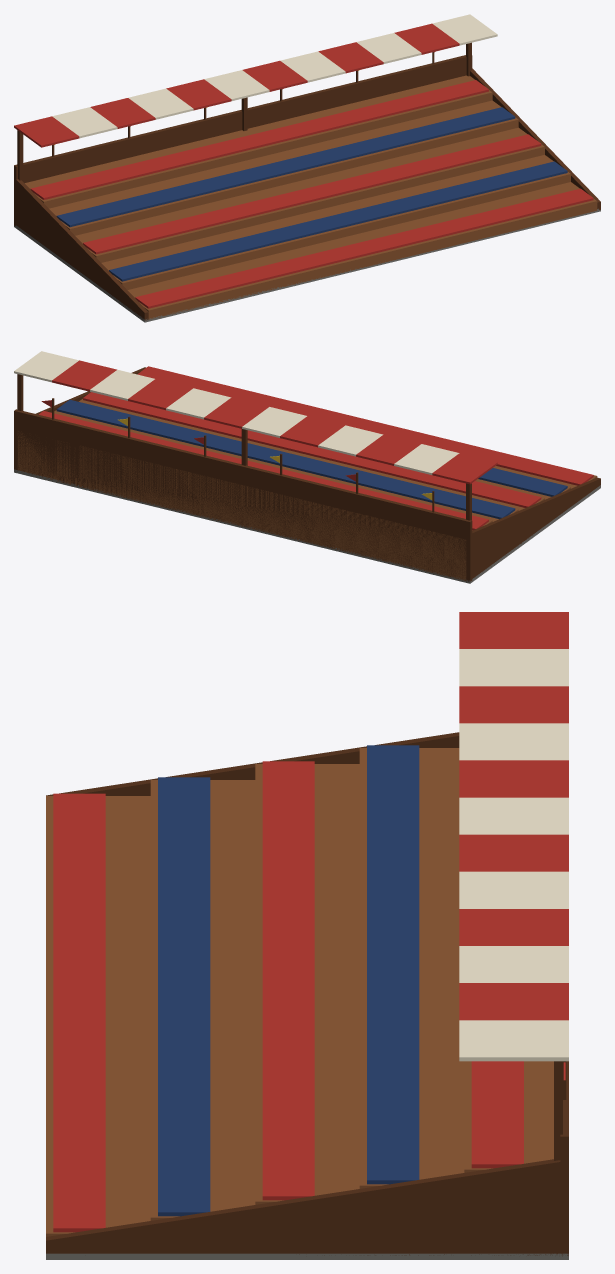
File: stands-6x3.glb
3 views of the same model, one above another, from view 1: azimuth 30°, elevation 25°; view 2: azimuth 150°, elevation 25°; view 3: azimuth 270°, elevation 25° (orthographic). The views are drawn at different scales.
Visible parts, largest first — view 1: Stands6x3; view 2: Stands6x3; view 3: Stands6x3.
Boxes of the visible parts, left/top/right/bottom form: Stands6x3: left=14, top=14, right=600, bottom=322; Stands6x3: left=14, top=351, right=600, bottom=583; Stands6x3: left=46, top=612, right=568, bottom=1259.
Bounding box in the file's own units: 5.96 × 1.26 × 2.96.
1 material, 1 textured.
